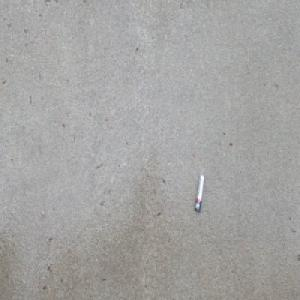Battery: (194, 174, 205, 215)
